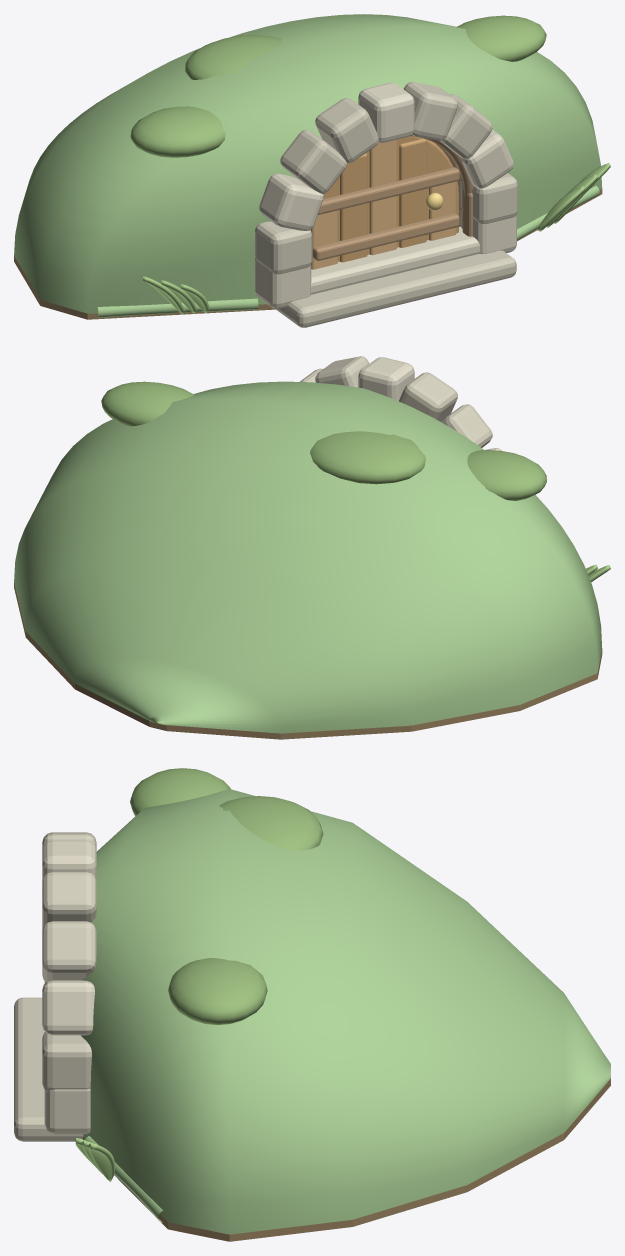
File: building_bear_door.glb
3 renders of one model, top to bottom at view 1: azimuth 30°, elevation 25°; view 2: azimuth 150°, elevation 25°; view 3: azimuth 270°, elevation 25°, orthographic. The views are drawn at different scales.
Parts seen in each view (by area): view 1: Bear door | sculpted grass hill, Bear door | lower welcoming step, Bear door | upper threshold, Bear door | moss cushion, Bear door | moss cushion.001, Bear door | arch voussoir.007, Bear door | arch voussoir.005, Bear door | moss cushion.002, Bear door | arch voussoir.006, Bear door | arch voussoir.004, Bear door | arch voussoir.008, Bear door | individual oak plank.002 (+20 smaller); view 2: Bear door | sculpted grass hill, Bear door | moss cushion.002, Bear door | fitted earth edge, Bear door | moss cushion, Bear door | moss cushion.001, Bear door | arch voussoir.005, Bear door | arch voussoir.004, Bear door | arch voussoir.006, Bear door | arch voussoir.003; view 3: Bear door | sculpted grass hill, Bear door | moss cushion.001, Bear door | lower welcoming step, Bear door | moss cushion.002, Bear door | fitted earth edge, Bear door | arch voussoir.002, Bear door | arch voussoir.001, Bear door | arch voussoir.003, Bear door | moss cushion, Bear door | arch voussoir, Bear door | lower stone jamb.001, Bear door | arch voussoir.004 (+1 smaller).
Part boxes in pixels (x1,y1,x2,y2): Bear door | sculpted grass hill: (14,14,602,314); Bear door | lower welcoming step: (275,250,516,327); Bear door | upper threshold: (310,226,479,294); Bear door | moss cushion: (130,106,225,157); Bear door | moss cushion.001: (456,15,546,61); Bear door | arch voussoir.007: (259,173,323,230); Bear door | arch voussoir.005: (315,98,378,163); Bear door | moss cushion.002: (185,35,281,79); Bear door | arch voussoir.006: (280,130,347,193); Bear door | arch voussoir.004: (358,82,414,142); Bear door | arch voussoir.008: (255,221,312,274); Bear door | individual oak plank.002: (369,139,396,255); Bear door | sculpted grass hill: (14,381,602,733); Bear door | moss cushion.002: (310,431,425,484); Bear door | fitted earth edge: (14,582,602,739); Bear door | moss cushion: (467,450,546,500); Bear door | moss cushion.001: (101,381,194,426); Bear door | arch voussoir.005: (399,372,457,421); Bear door | arch voussoir.004: (358,357,414,401); Bear door | arch voussoir.006: (440,404,492,447); Bear door | arch voussoir.003: (315,356,369,387); Bear door | sculpted grass hill: (81,789,610,1234); Bear door | moss cushion.001: (168,958,267,1024); Bear door | lower welcoming step: (14,997,83,1141); Bear door | moss cushion.002: (219,796,323,850); Bear door | fitted earth edge: (83,1079,610,1241); Bear door | arch voussoir.002: (42,921,96,981); Bear door | arch voussoir.001: (42,980,94,1035); Bear door | arch voussoir.003: (42,872,96,930); Bear door | moss cushion: (130,768,230,816); Bear door | arch voussoir: (42,1032,91,1091); Bear door | lower stone jamb.001: (44,1088,90,1134); Bear door | arch voussoir.004: (42,840,96,880).
Bounding box in the file's own units: 2.6 × 0.89 × 2.04.
